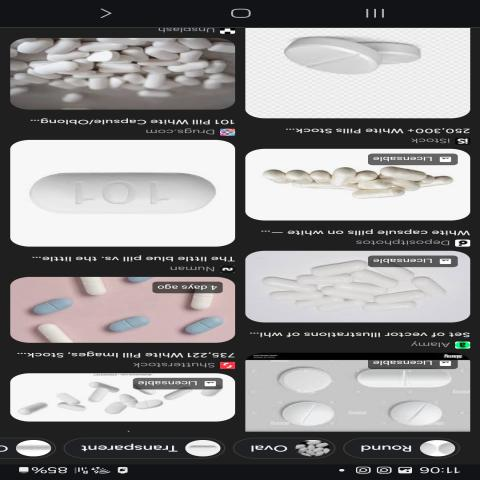Pill: (21, 155, 218, 226), (264, 34, 382, 89), (338, 367, 462, 394), (252, 398, 354, 427), (252, 364, 344, 395), (372, 399, 454, 425), (17, 320, 80, 343), (66, 275, 114, 300)
